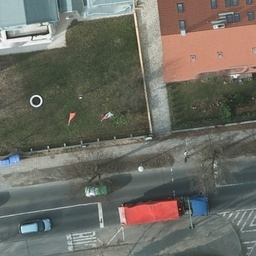car: (83, 180, 112, 199), (19, 218, 50, 235)
